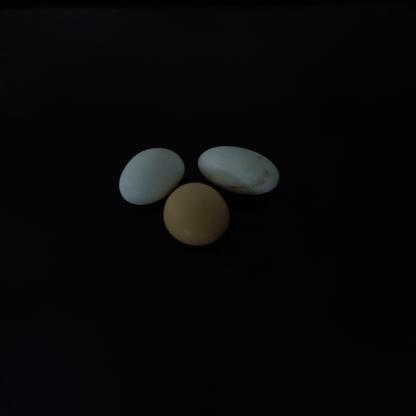egg: (104, 136, 194, 204), (188, 136, 285, 190), (158, 185, 237, 236)
